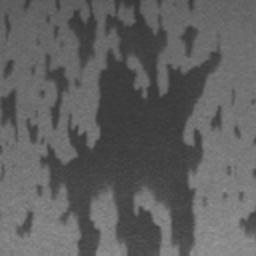Red iron sheet: (0, 0, 242, 256), (15, 211, 33, 241), (241, 212, 256, 234), (3, 13, 12, 38), (223, 192, 244, 201), (187, 0, 195, 12), (0, 163, 6, 179), (23, 0, 31, 10)
